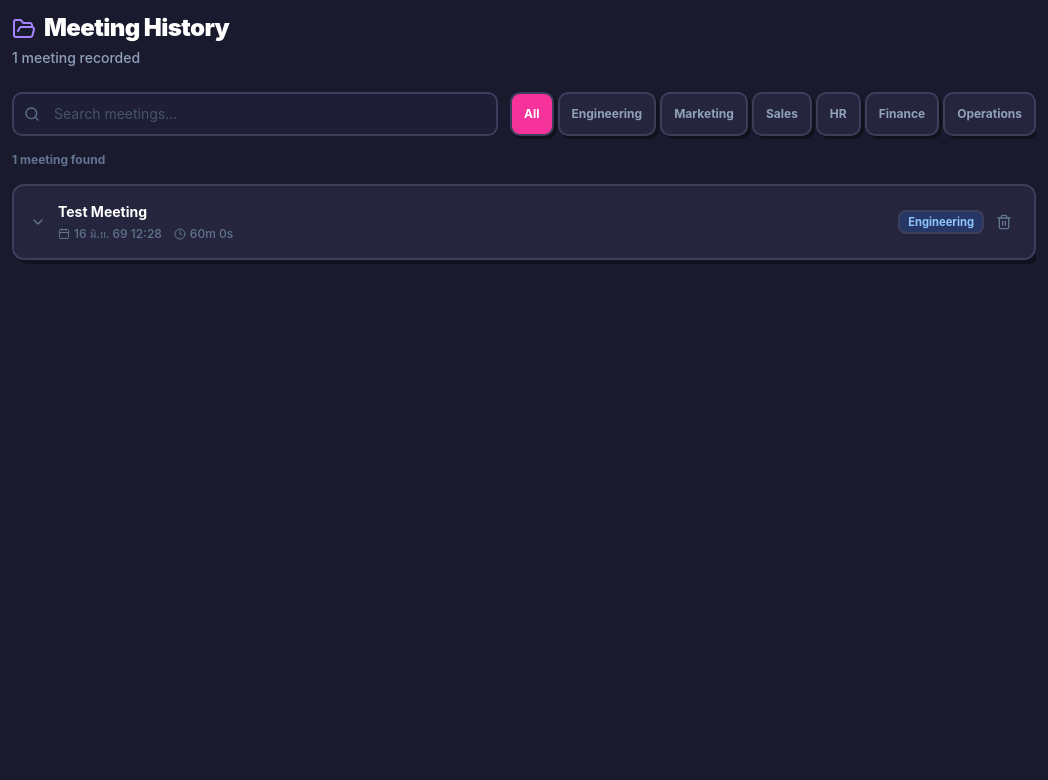
Scenario: MeetingHistory Component › Meeting Expansion › should show action items when expanded
The image size is (1048, 780).
Click the button "Test Meeting 16 มิ.ย. 69 12:28 60m 0s": (103, 212) x1=30 y1=202 x2=898 y2=242
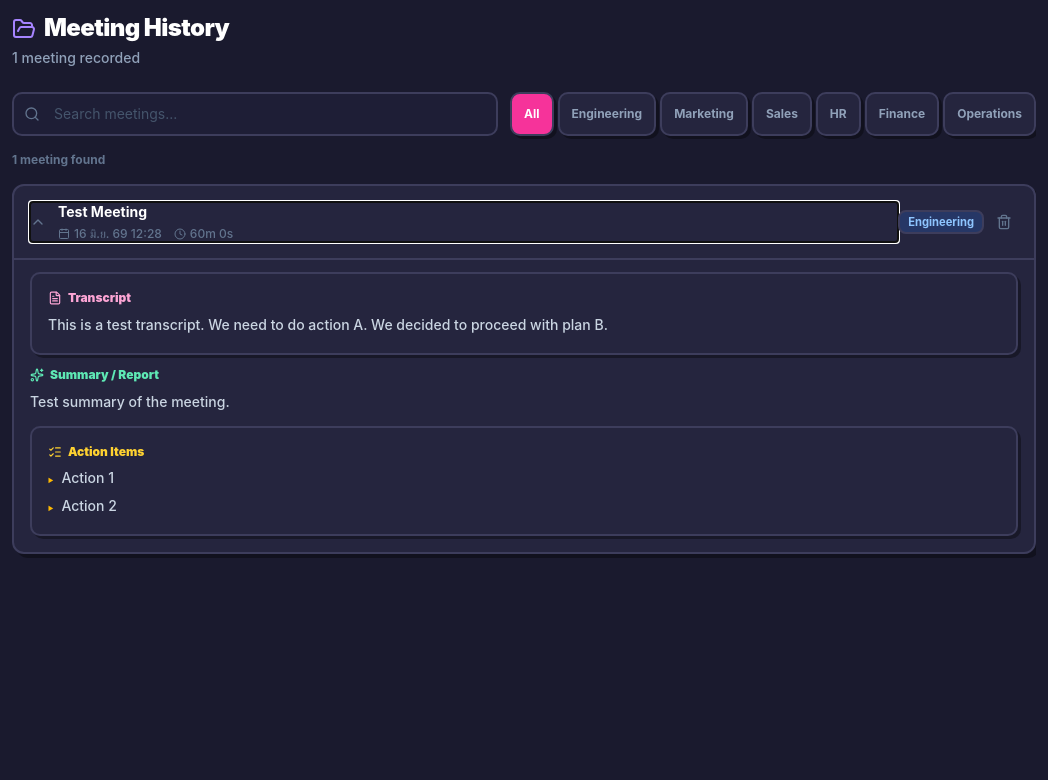
Now the text "Action 1" is shown, box x1=61 y1=468 x2=114 y2=488
Now the text "Action 2" is shown, box x1=61 y1=496 x2=117 y2=516
